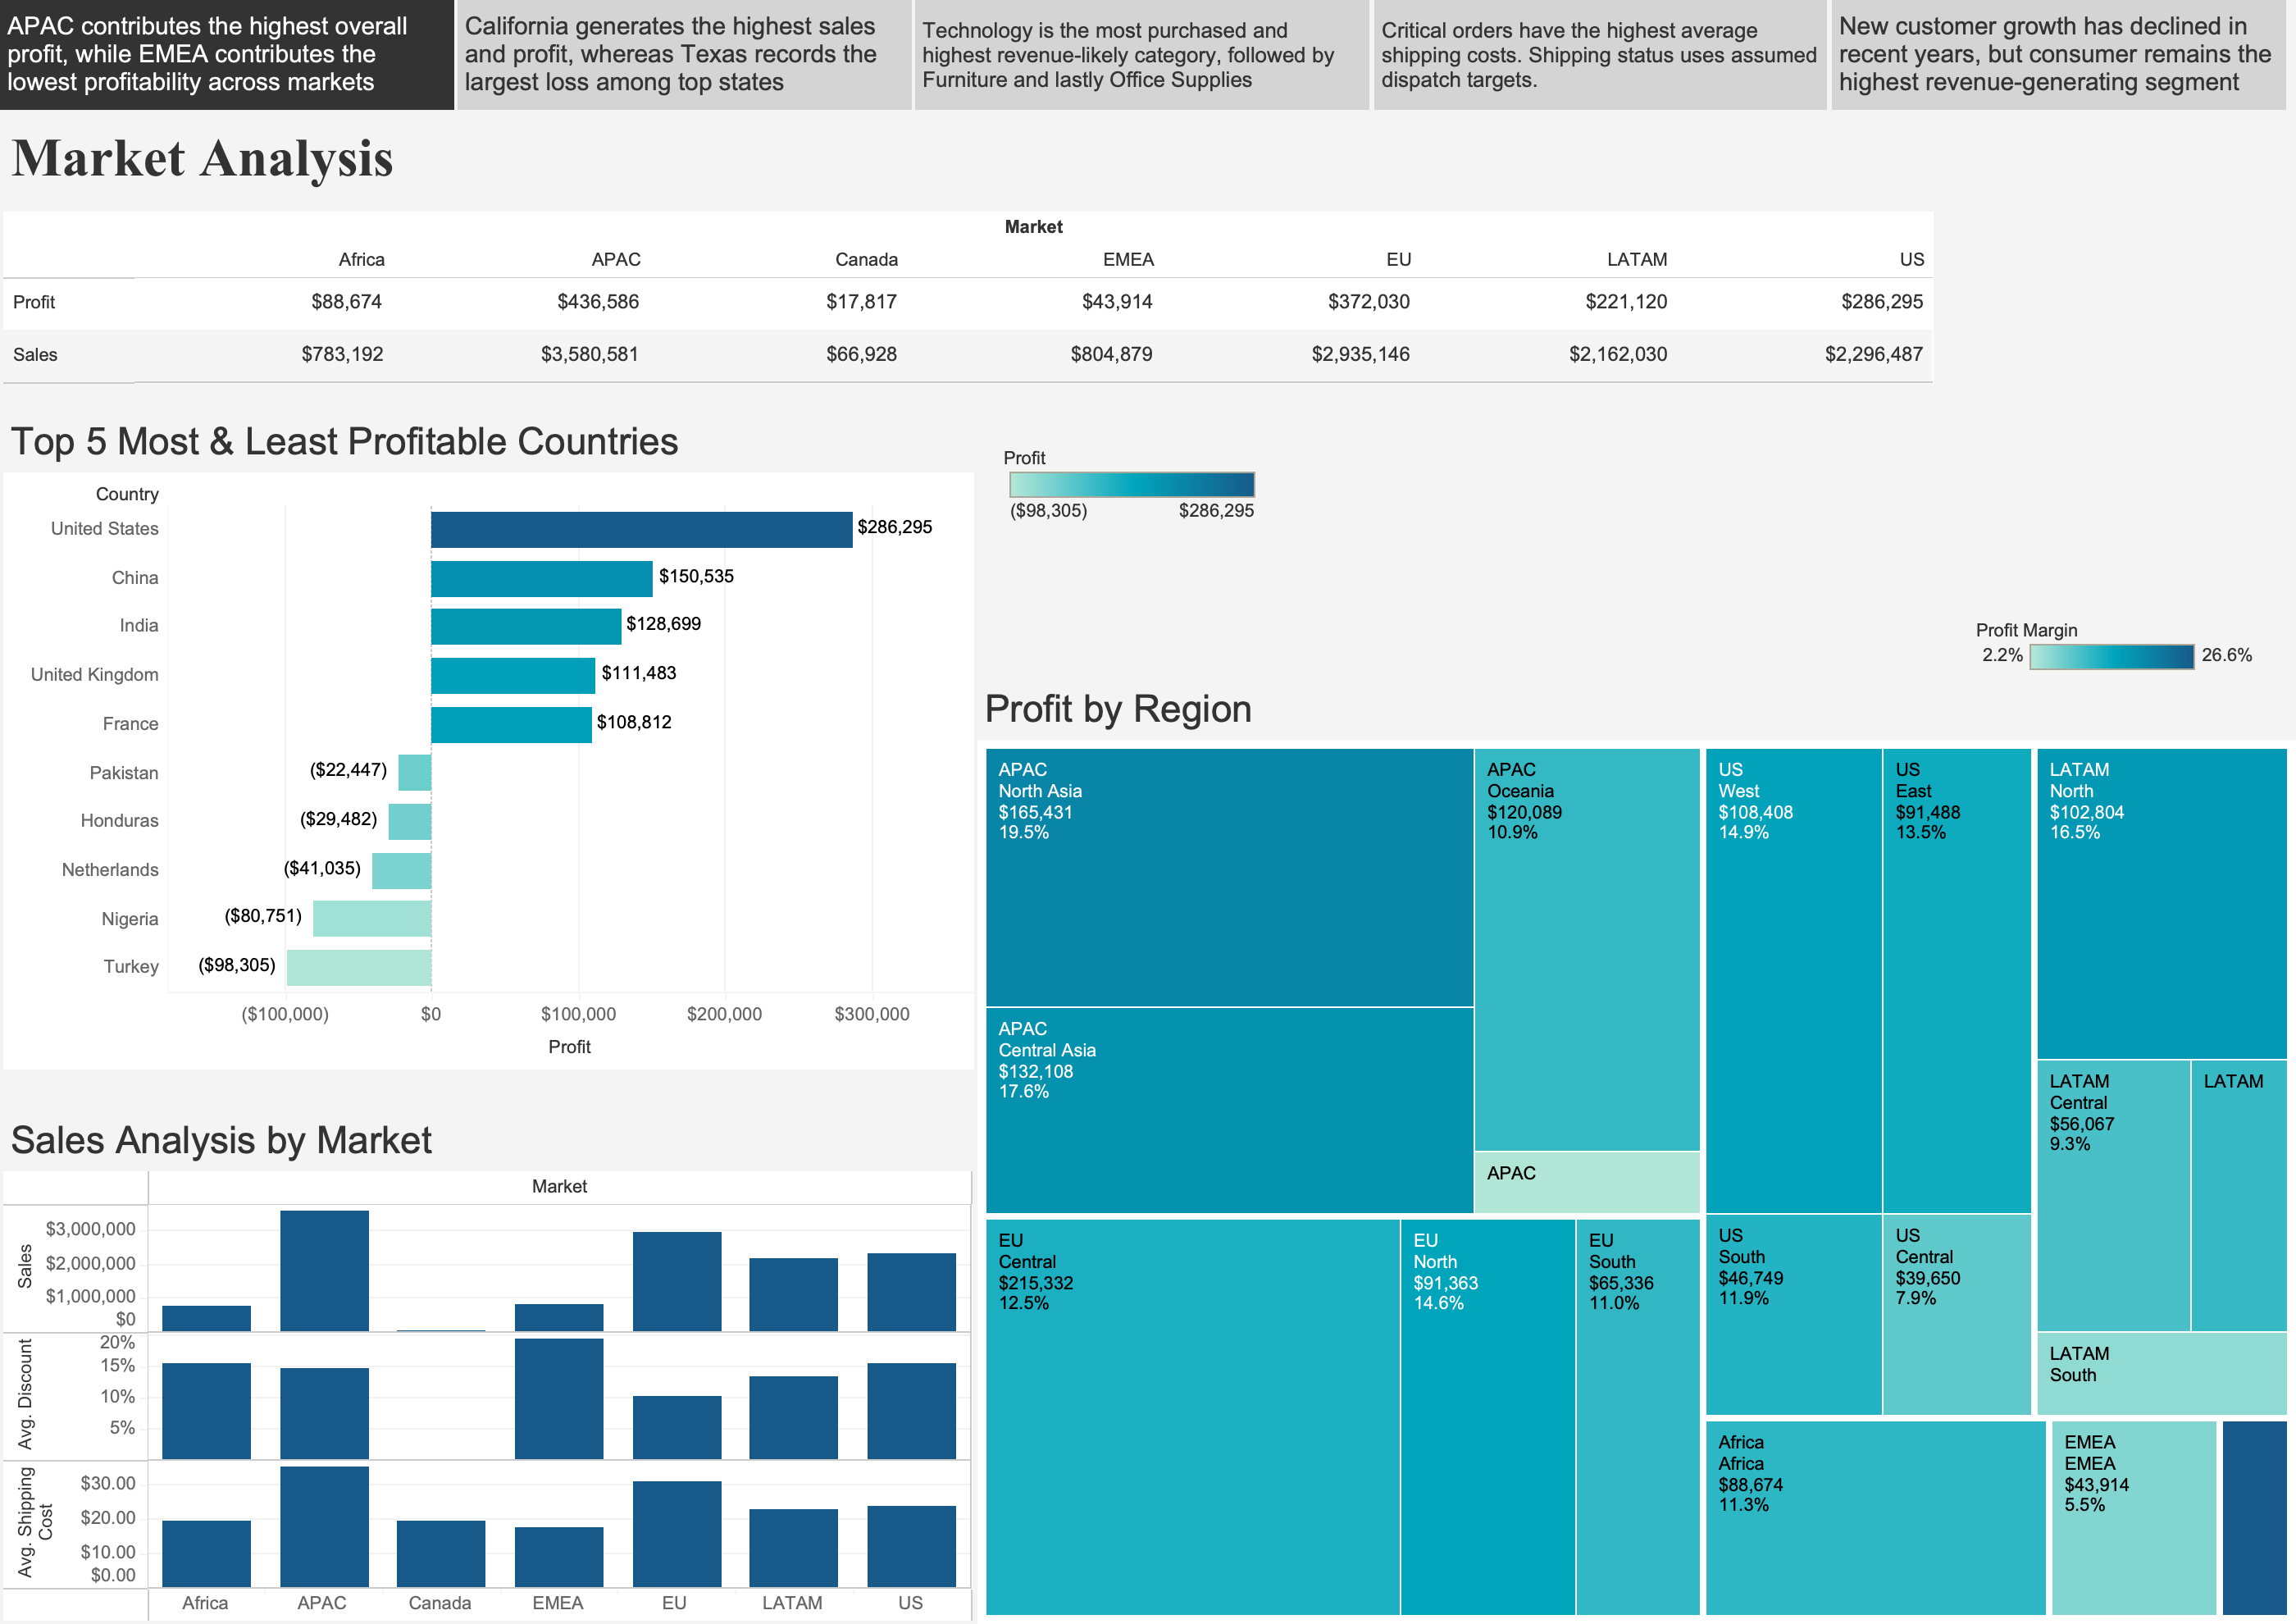

The page's visual inventory and layout, read from the dashboard file:
{"tool":"tableau","page":{"name":"Market Analysis","canvas":[1400,990],"ordinal":0},"visuals":[{"type":"text","box":[12.4,10.9,272.2,60.6]},{"type":"text","box":[287,10.9,272.2,60.6]},{"type":"text","box":[561.6,10.9,272.2,60.6]},{"type":"text","box":[836.1,10.9,272.2,60.6]},{"type":"text","box":[1110.7,10.9,272.2,60.6]},{"type":"text","box":[14,75.4,1368.9,43.5]},{"type":"worksheet","title":"Market - profit and sales","mark":"Text","cols":["Market"],"box":[14,126.7,1157.3,94.8]},{"type":"text","box":[14,236.2,581,34.2]},{"type":"legend","title":"Top 5 and bottom 5 countries by profit","param":"[retail].[sum:Profit:qk]","box":[614.4,253.3,155.6,69.9]},{"type":"worksheet","title":"Top 5 and bottom 5 countries by profit","mark":"Bar","rows":["Country"],"cols":["Profit"],"box":[14,270.4,581,327.9]},{"type":"legend","title":"Profit by region and market","param":"[retail].[user:Profit Margin:qk]","box":[1197.8,347.4,171.1,66.1]},{"type":"text","box":[598.9,382.3,790.2,34.2]},{"type":"worksheet","title":"Profit by region and market","mark":"Square","box":[598.9,416.5,790.2,485.7]},{"type":"text","box":[14,619.3,581,34.2]},{"type":"worksheet","title":"Sales discount and shipping cost by market","mark":"Bar","rows":["Sales","Discount","Shipping Cost"],"cols":["Market"],"box":[14,653.5,581,247.9]}]}

Visuals, with their boxes in screenshot pixels (x1, y1, x2, y2), scaled from the page's 1400x990 canvas onto the 2296x1624 screenshot:
text: locate(20, 18, 467, 117)
text: locate(471, 18, 917, 117)
text: locate(921, 18, 1368, 117)
text: locate(1371, 18, 1818, 117)
text: locate(1821, 18, 2268, 117)
text: locate(23, 124, 2268, 195)
"Market - profit and sales" worksheet (Text marks): locate(23, 208, 1921, 363)
text: locate(23, 387, 976, 444)
"Top 5 and bottom 5 countries by profit" legend: locate(1008, 416, 1263, 530)
"Top 5 and bottom 5 countries by profit" worksheet (Bar marks): locate(23, 444, 976, 982)
"Profit by region and market" legend: locate(1965, 570, 2245, 678)
text: locate(982, 627, 2278, 683)
"Profit by region and market" worksheet (Square marks): locate(982, 683, 2278, 1480)
text: locate(23, 1016, 976, 1072)
"Sales discount and shipping cost by market" worksheet (Bar marks): locate(23, 1072, 976, 1479)
